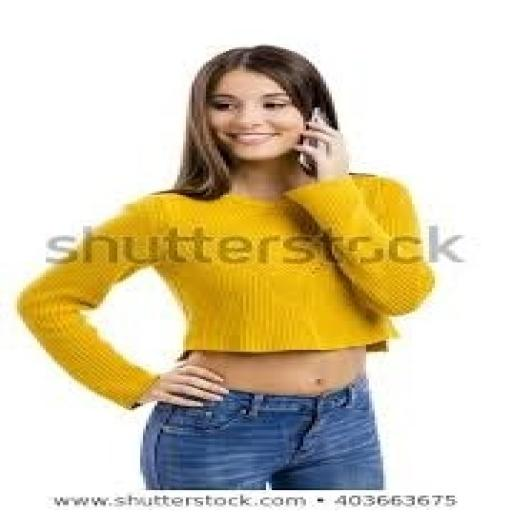calling: (14, 44, 438, 490)
